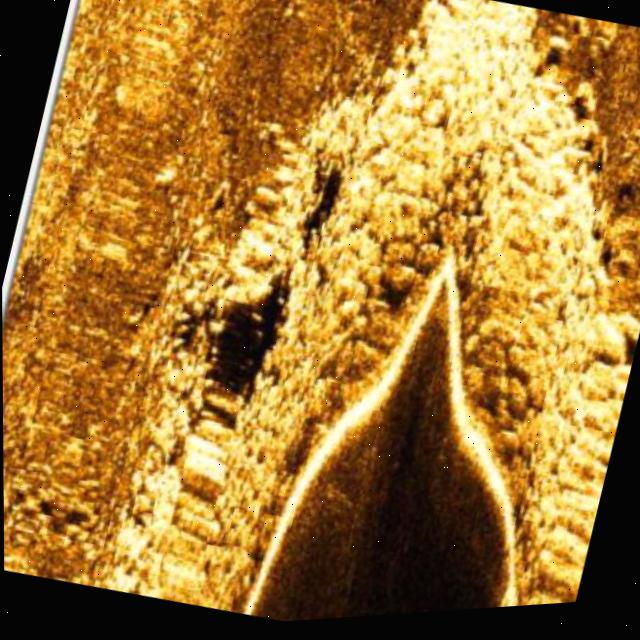bedrock group: (79, 0, 640, 636)
